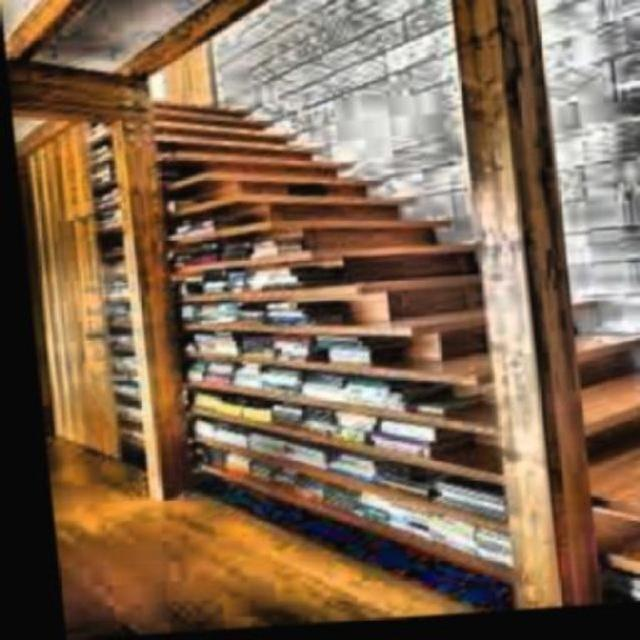stair: (178, 96, 638, 630)
